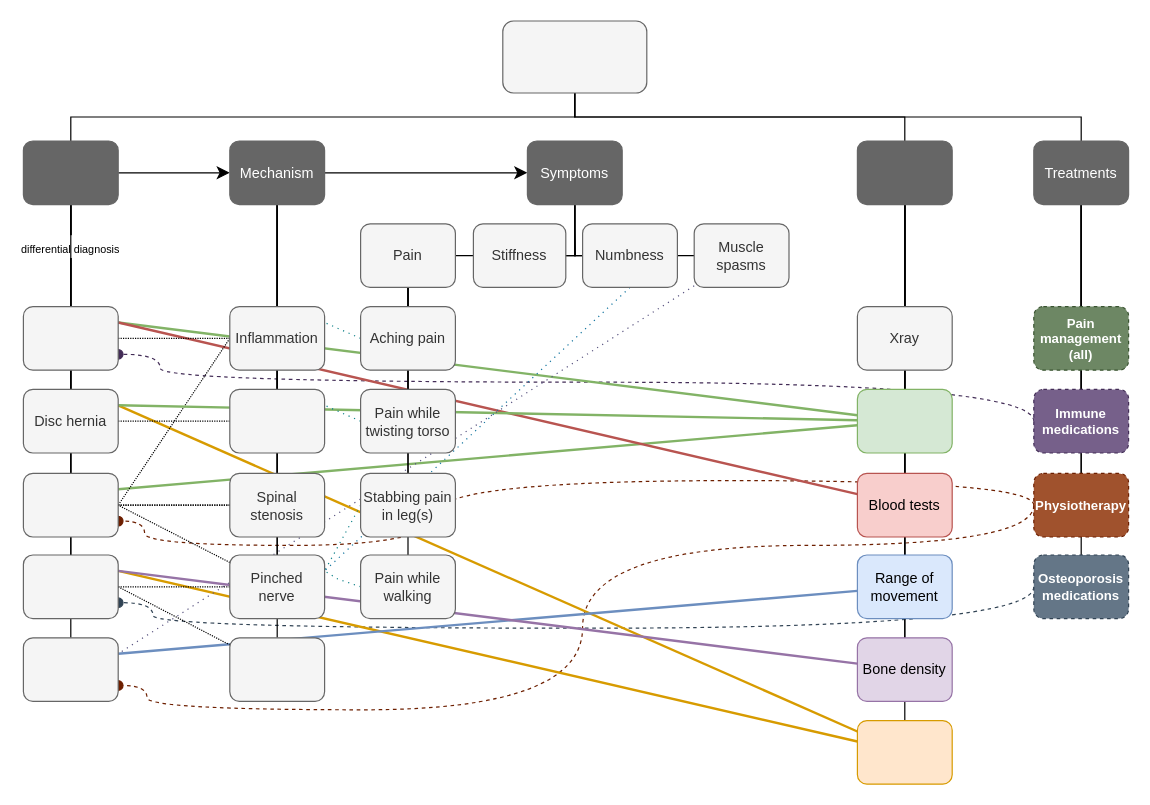
Some shapes in this 1150 by 805 pixel diagram are drawn without their labels. Each missing label, with the centre of its shape:
Arthritis: point 70,337
Back pain: point 574,56
Causes: point 70,172
CT Scan: point 904,751
Damaged disc: point 277,420
Fractures: point 277,669
MRI: point 904,420
Muscle strain: point 70,669
Osteoporosis: point 70,586
Sciatica: point 70,504
Tests: point 904,172
